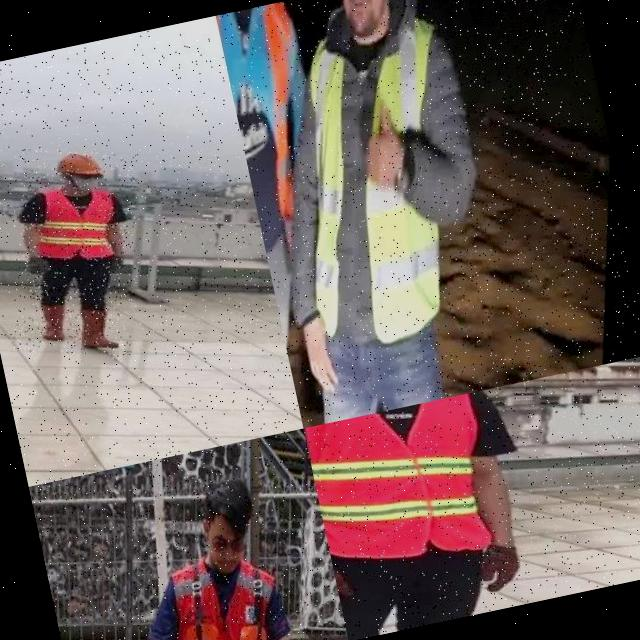boots: (68, 298, 128, 356), (29, 296, 74, 346)
helmet: (47, 142, 110, 186)
vest: (233, 0, 516, 375), (304, 387, 530, 591), (215, 0, 344, 251), (123, 533, 298, 640), (25, 174, 128, 274)
